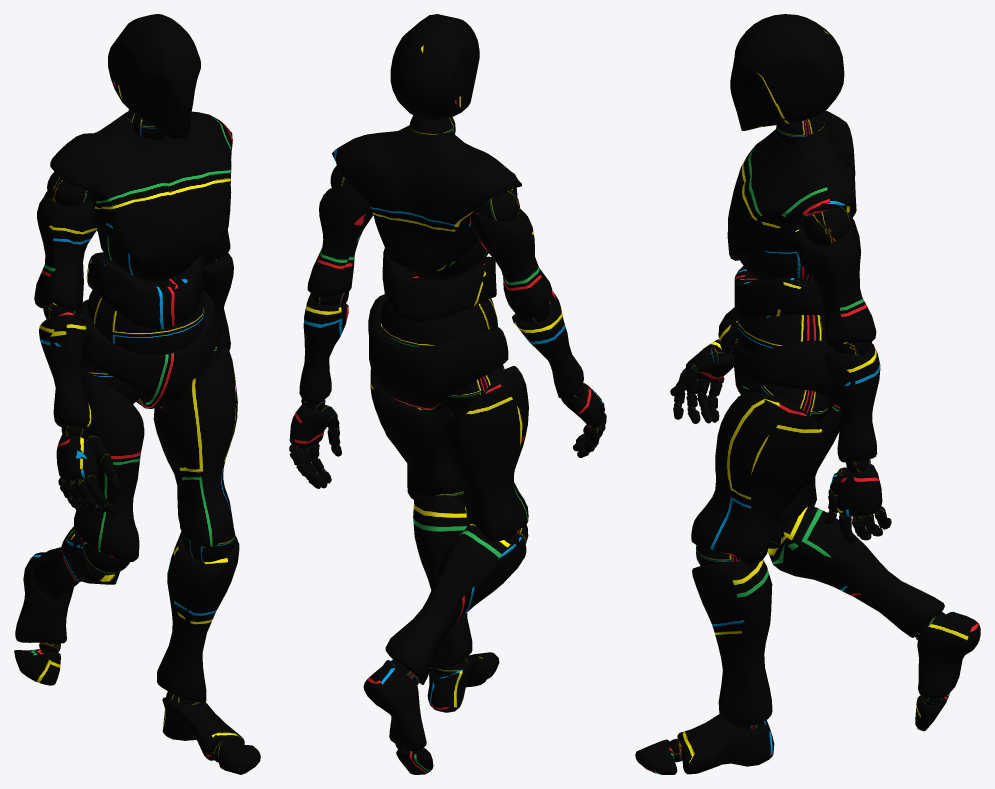
File: y-bot-origin_000025.obj
The picture shows the model from 3 angles, left to right: view 1: azimuth 30°, elevation 25°; view 2: azimuth 150°, elevation 25°; view 3: azimuth 270°, elevation 25°; orthographic projection. The views are drawn at different scales.
Visible parts, largest first — view 1: Alpha_Surface_Alpha_SurfaceMesh, Alpha_Joints_Alpha_JointsMesh; view 2: Alpha_Surface_Alpha_SurfaceMesh, Alpha_Joints_Alpha_JointsMesh; view 3: Alpha_Surface_Alpha_SurfaceMesh, Alpha_Joints_Alpha_JointsMesh.
Part boxes in pixels (x1,y1,x2,y2): Alpha_Surface_Alpha_SurfaceMesh: [14, 14, 260, 774]; Alpha_Joints_Alpha_JointsMesh: [39, 109, 235, 762]; Alpha_Surface_Alpha_SurfaceMesh: [289, 14, 606, 774]; Alpha_Joints_Alpha_JointsMesh: [289, 115, 606, 750]; Alpha_Surface_Alpha_SurfaceMesh: [635, 14, 980, 774]; Alpha_Joints_Alpha_JointsMesh: [669, 114, 945, 762].
Bounding box in the file's own units: 0.6264 × 1.77 × 0.7498.
